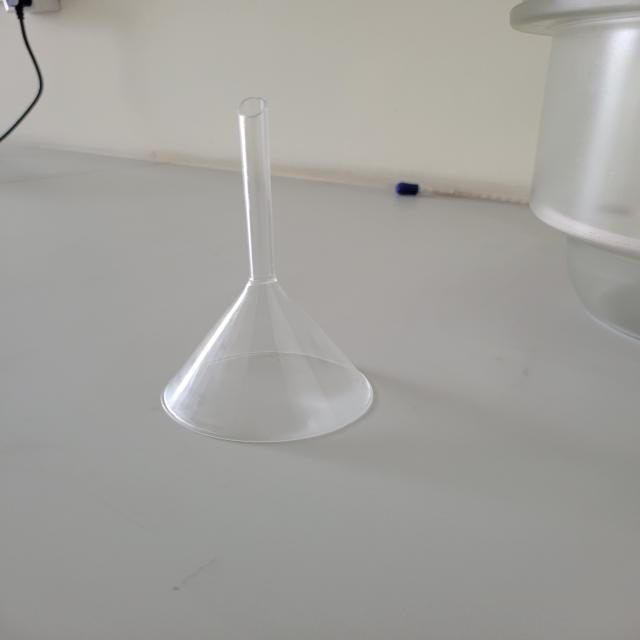Funnel: (138, 67, 411, 489)
